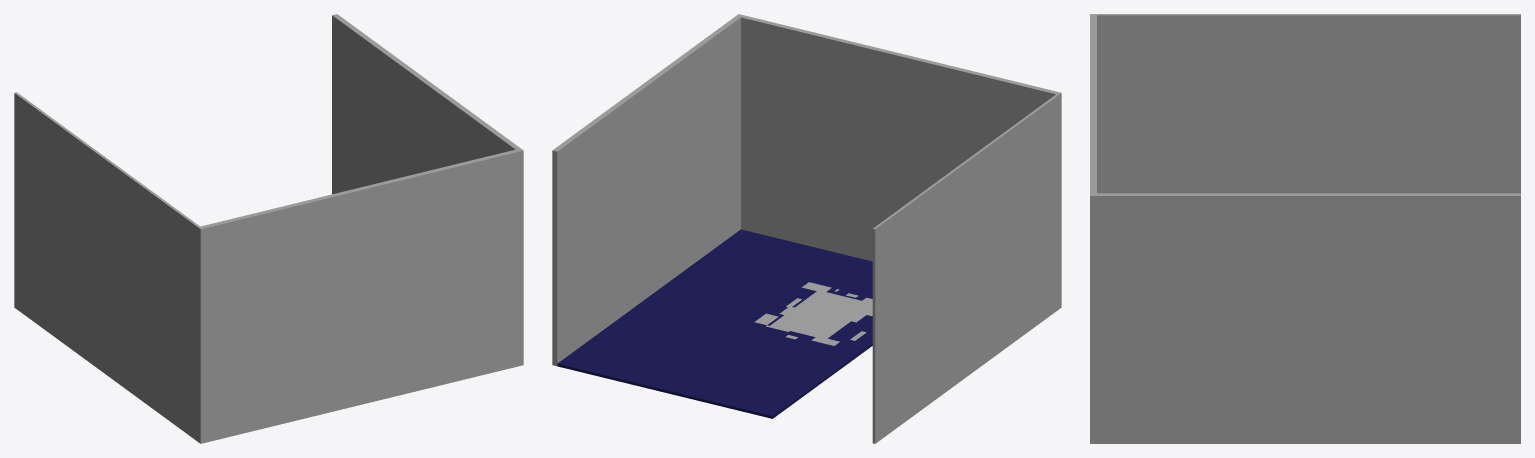
The model's file is 4x2 third (1)-5.obj.
The picture shows the model from 3 angles, left to right: view 1: azimuth 30°, elevation 25°; view 2: azimuth 150°, elevation 25°; view 3: azimuth 270°, elevation 25°; orthographic projection. The views are drawn at different scales.
Parts seen in each view (by area): view 1: 4x2 third (1)-5; view 2: 4x2 third (1)-5; view 3: 4x2 third (1)-5.
Boxes of the visible parts, x1,y1,x2,y2 form: 4x2 third (1)-5: (14,14,523,443); 4x2 third (1)-5: (552,14,1061,443); 4x2 third (1)-5: (1090,14,1520,443).
Size of the model in its own units: 126 by 80 by 126.
Materials: 1 (1 with a texture image).
